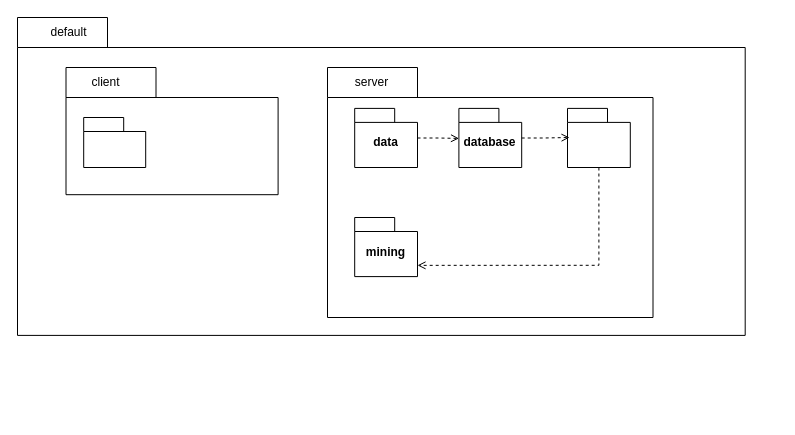
This 795x435 diagram has some shape labels left out. The shapes that lost their labels are listed below. From the top down, each one's centre as x and y in pixels, then its label:
At point 114,142: "keyboard".
At point 598,137: "exception".
